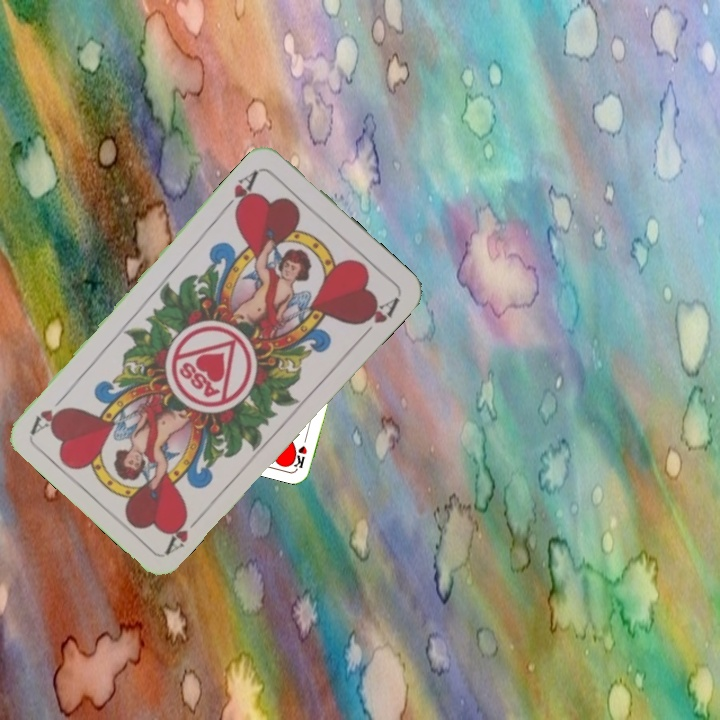HA: (161, 507, 208, 557), (219, 166, 261, 218)
HK: (290, 429, 310, 470)
